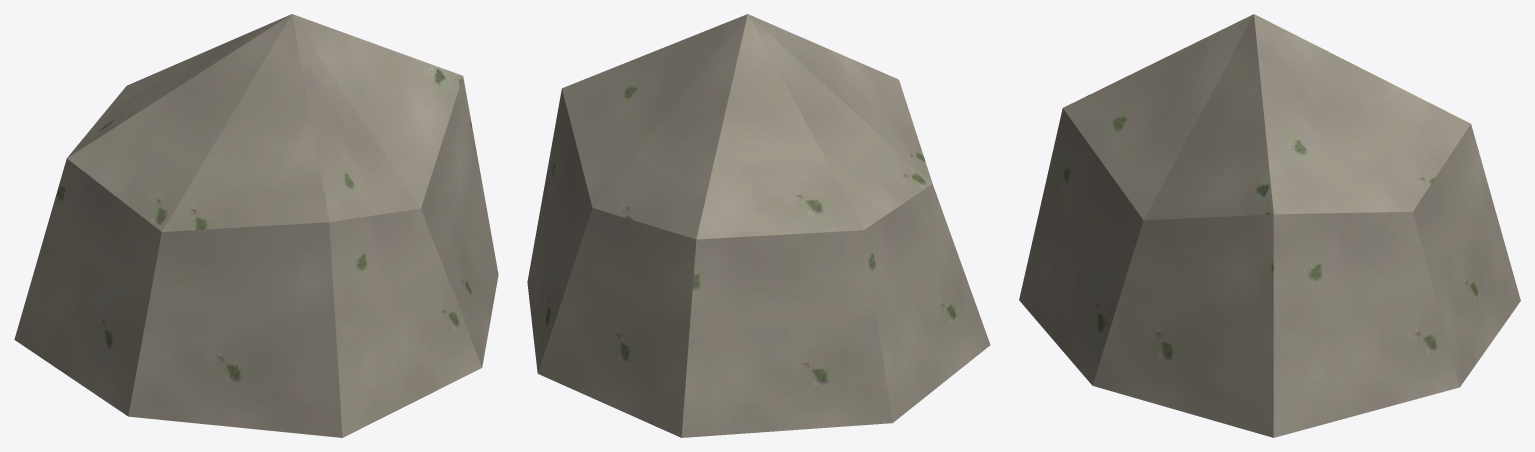
File: rock.3.glb
3 views of the same model, side by side, from view 1: azimuth 30°, elevation 25°; view 2: azimuth 150°, elevation 25°; view 3: azimuth 270°, elevation 25° (orthographic). The views are drawn at different scales.
Visible parts, largest first — view 1: scenery.rock.3; view 2: scenery.rock.3; view 3: scenery.rock.3.
Boxes of the visible parts, box(x1,y1,x2,y2) form: scenery.rock.3: box(14, 14, 498, 437); scenery.rock.3: box(527, 14, 990, 437); scenery.rock.3: box(1019, 14, 1520, 437).
Size of the model in its own units: 0.7706 by 0.55 by 0.7842.
1 material, 1 textured.
